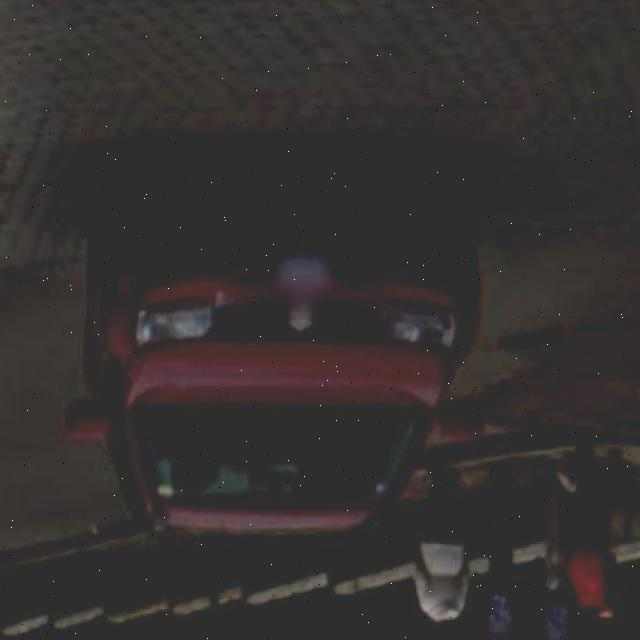car: (62, 160, 489, 534)
